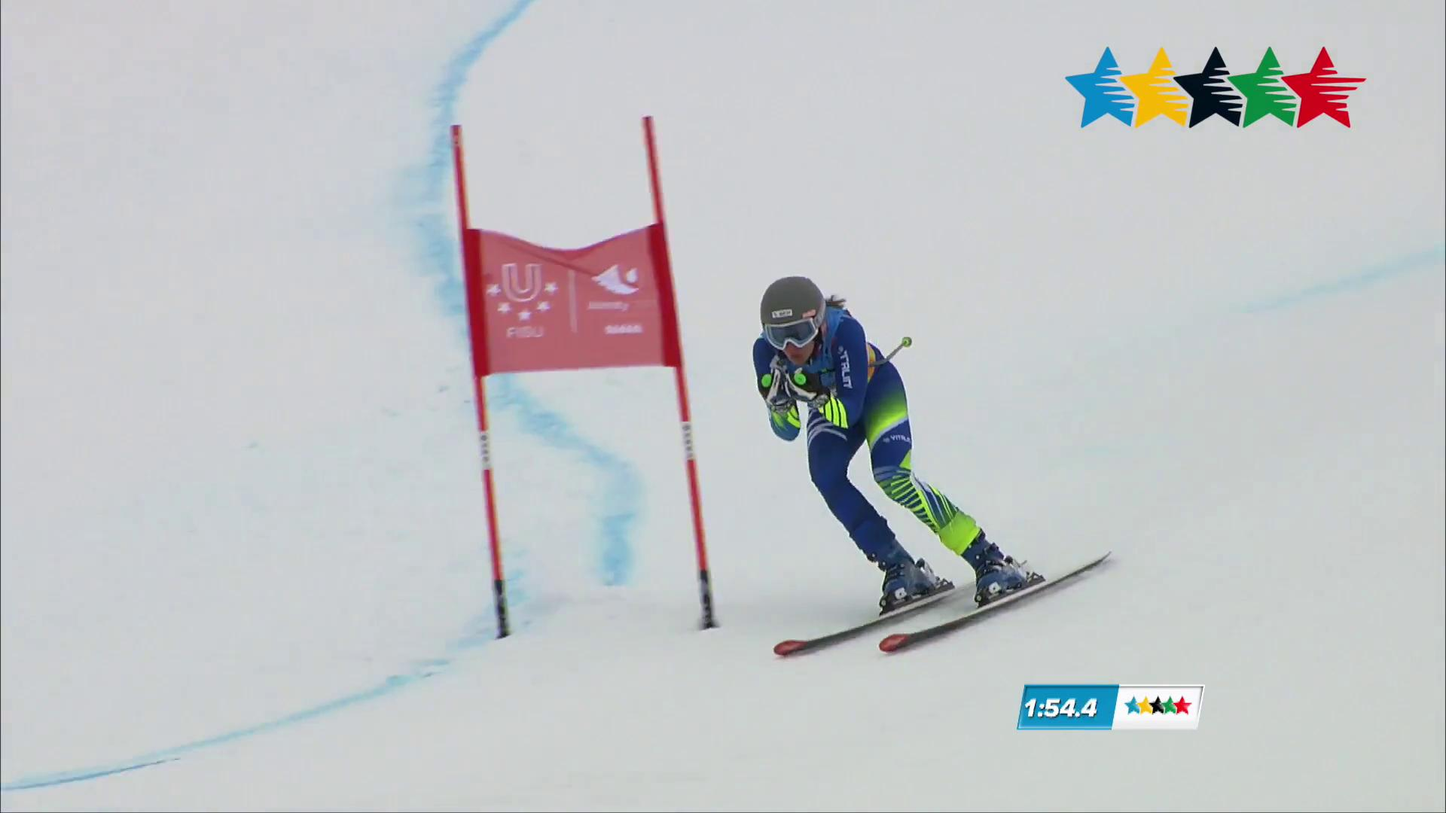gate: (643, 116, 715, 628), (451, 124, 509, 638)
